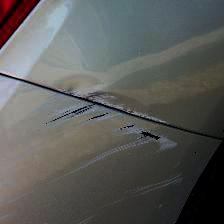bumper_scratch: (11, 94, 223, 194)
